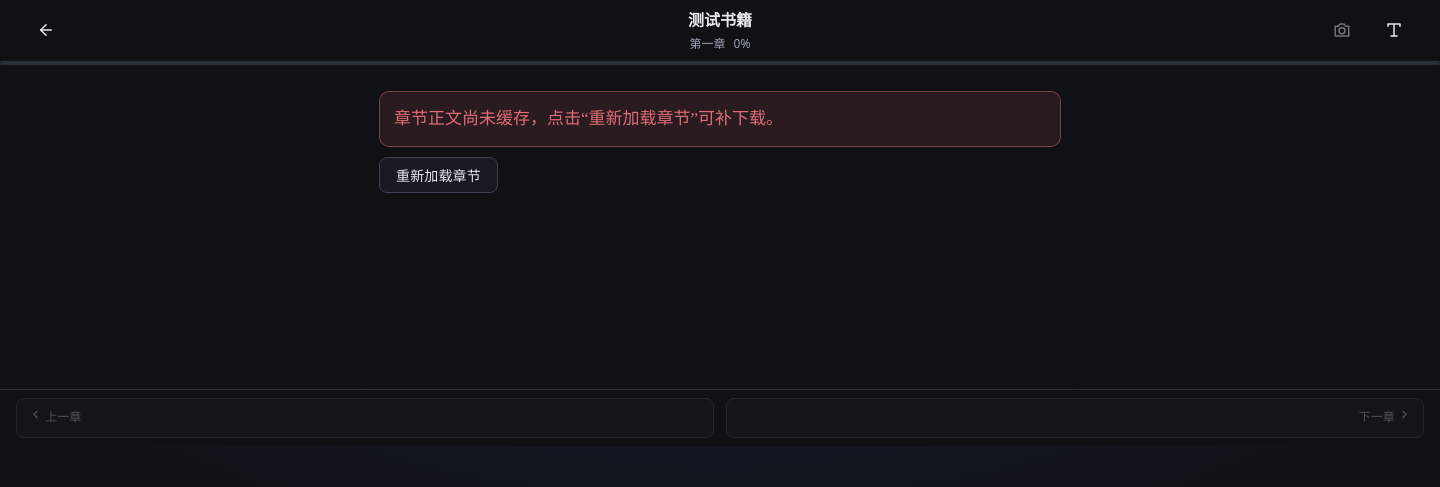
reads storage first and sends an explicit POST only after the user retries
Expected: the message "章节正文尚未缓存，点击“重新加载章节”可补下载。" is shown, [379, 91, 1061, 147]
Click the button "重新加载章节": (438, 175) [379, 157, 498, 193]
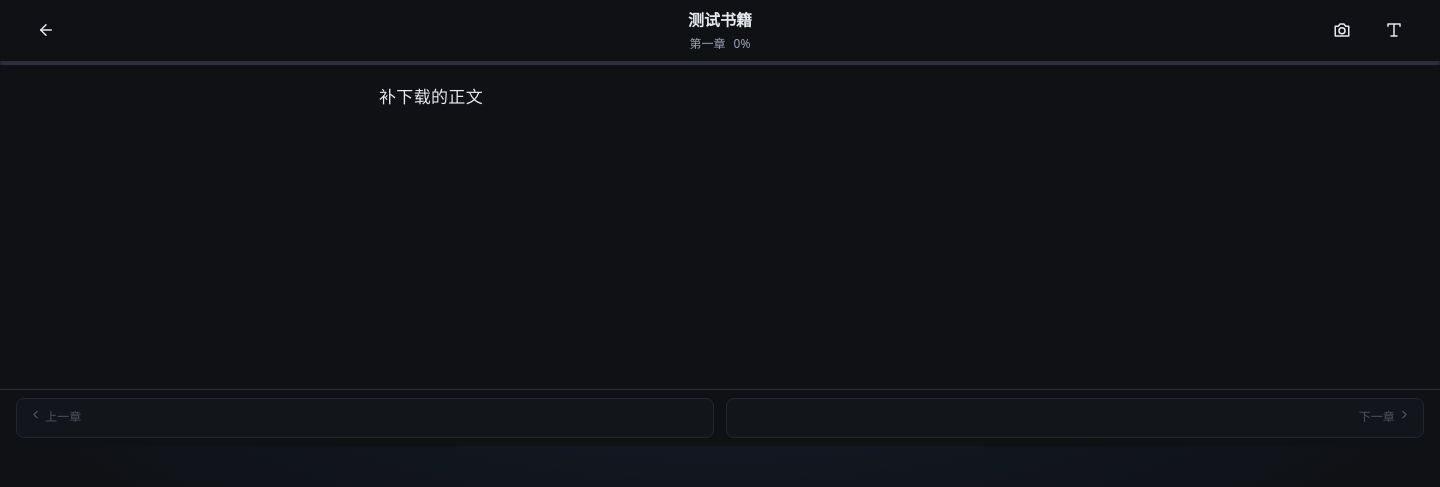
Expected: the text "补下载的正文" is shown, [379, 88, 483, 107]
